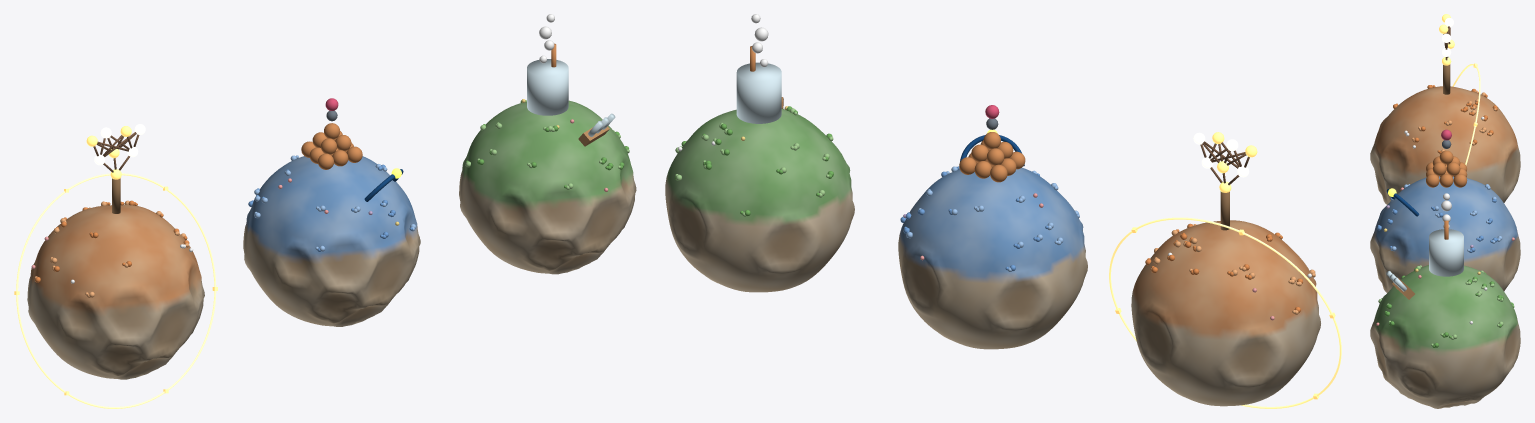
Rendered from fields.glb.
3 views of the same model, side by side, from view 1: azimuth 30°, elevation 25°; view 2: azimuth 150°, elevation 25°; view 3: azimuth 270°, elevation 25° (orthographic). The views are drawn at different scales.
Parts seen in each view (by area): view 1: planet_ml, planet_dft, planet_exp, cone.016, torus; view 2: planet_ml, planet_exp, planet_dft, cone.016, torus; view 3: planet_exp, planet_ml, planet_dft, cone.016, torus, cone, torus.001, sphere.203, sphere.197, sphere.201, sphere.198, sphere.202 (+2 smaller).
Boxes of the visible parts, x1,y1,x2,y2 form: planet_ml: (27, 204, 204, 379); planet_dft: (243, 156, 420, 326); planet_exp: (459, 100, 636, 274); cone.016: (527, 59, 568, 115); torus: (16, 173, 216, 408); planet_ml: (1131, 220, 1320, 406); planet_exp: (665, 108, 854, 292); planet_dft: (898, 167, 1087, 349); cone.016: (736, 62, 781, 123); torus: (1109, 217, 1341, 408); planet_exp: (1370, 265, 1520, 408); planet_ml: (1370, 86, 1520, 204); planet_dft: (1370, 176, 1520, 292); cone.016: (1429, 229, 1463, 276); torus: (1452, 64, 1480, 165); cone: (1443, 64, 1450, 94); torus.001: (1386, 189, 1419, 216); sphere.203: (1439, 150, 1453, 164); sphere.197: (1439, 174, 1453, 187); sphere.201: (1432, 162, 1446, 175); sphere.198: (1453, 174, 1467, 187); sphere.202: (1446, 162, 1460, 175).
Size of the model in its own units: 12.98 by 5.53 by 3.32.
